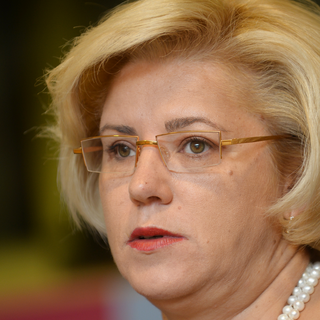eye: (172, 134, 216, 159), (106, 139, 138, 162)
